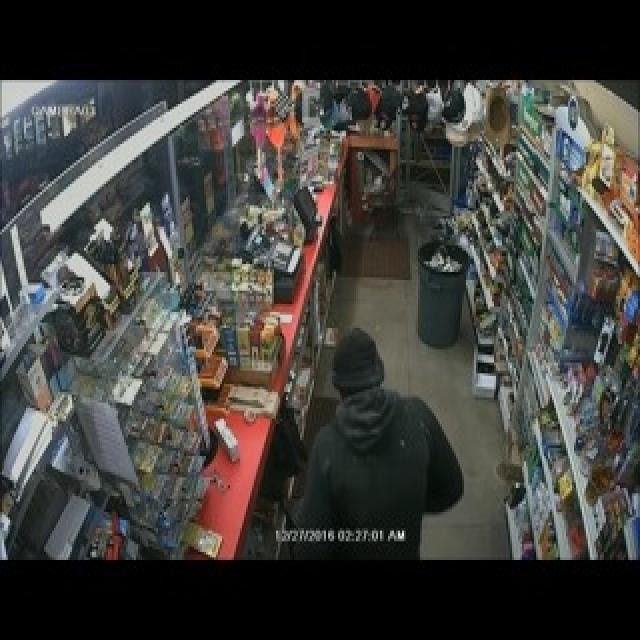thief: (314, 319, 433, 499)
